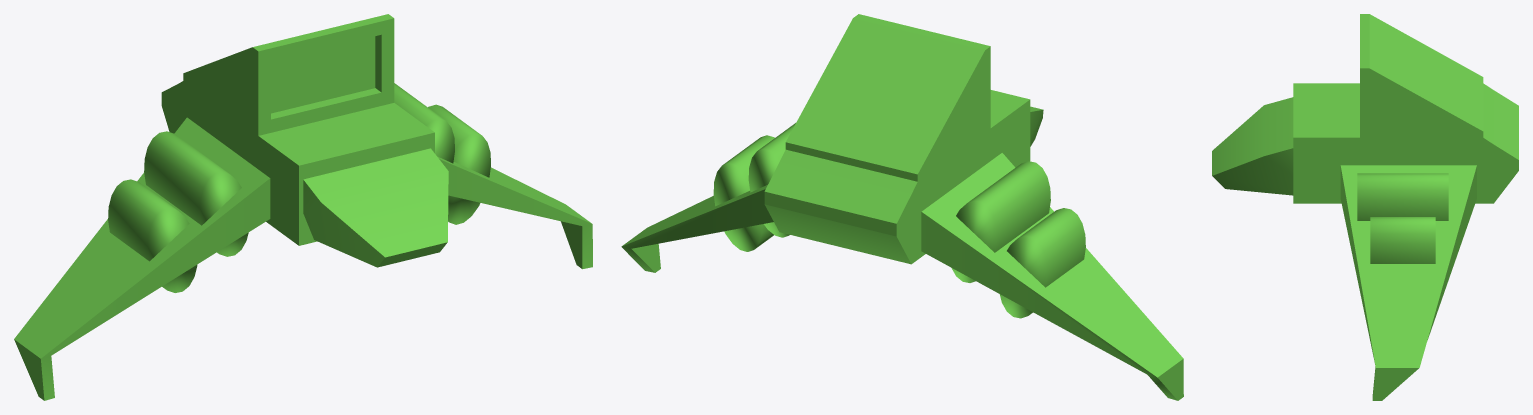
The model's file is AstronaveVera.fbx.
3 renders of one model, left to right at view 1: azimuth 30°, elevation 25°; view 2: azimuth 150°, elevation 25°; view 3: azimuth 270°, elevation 25°, orthographic. The views are drawn at different scales.
Parts seen in each view (by area): view 1: Telaio_low, AlaSx_low, Visiera_low, BigSx_low, AlaDx_low, SmallSx_low, SmallDx_low, BigDx_Low; view 2: Telaio_low, AlaSx_low, BigSx_low, AlaDx_low, SmallSx_low, SmallDx_low, BigDx_Low; view 3: Telaio_low, AlaDx_low, Visiera_low, BigDx_Low, SmallDx_low.
Part boxes in pixels (box(x1,y1,x2,y2)): Telaio_low: box(161, 14, 434, 245); AlaSx_low: box(14, 117, 270, 400); Visiera_low: box(303, 148, 448, 267); BigSx_low: box(144, 131, 248, 256); AlaDx_low: box(437, 156, 592, 269); SmallSx_low: box(108, 179, 197, 292); SmallDx_low: box(428, 104, 490, 224); BigDx_Low: box(394, 83, 454, 163); Telaio_low: box(764, 14, 1030, 264); AlaSx_low: box(921, 153, 1183, 400); BigSx_low: box(951, 161, 1050, 282); AlaDx_low: box(621, 185, 773, 272); SmallSx_low: box(999, 208, 1085, 318); SmallDx_low: box(713, 135, 774, 251); BigDx_Low: box(748, 123, 795, 237); Telaio_low: box(1293, 14, 1518, 203); AlaDx_low: box(1340, 165, 1476, 400); Visiera_low: box(1212, 97, 1293, 195); BigDx_Low: box(1357, 173, 1448, 220); SmallDx_low: box(1370, 217, 1435, 263).
Size of the model in its own units: 4.34 by 2.29 by 2.55.
